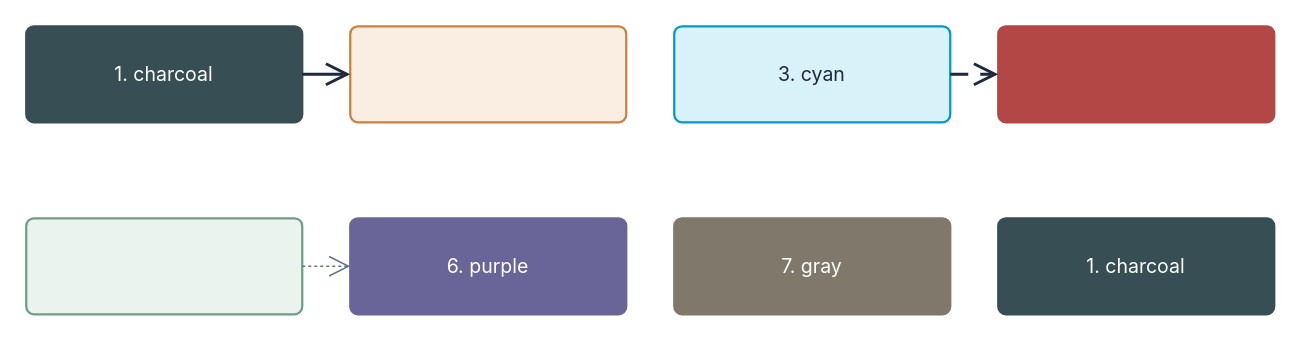
Some shapes in this 1302 by 342 pixel diagram are drawn without their labels. Here are the shapes that lost their labels. From the top down, the box of each, then its label:
(348, 24, 627, 123): 2. orange
(996, 24, 1275, 123): 4. red
(24, 216, 303, 315): 5. green
